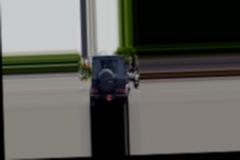License_Plate: (105, 93, 113, 102)
